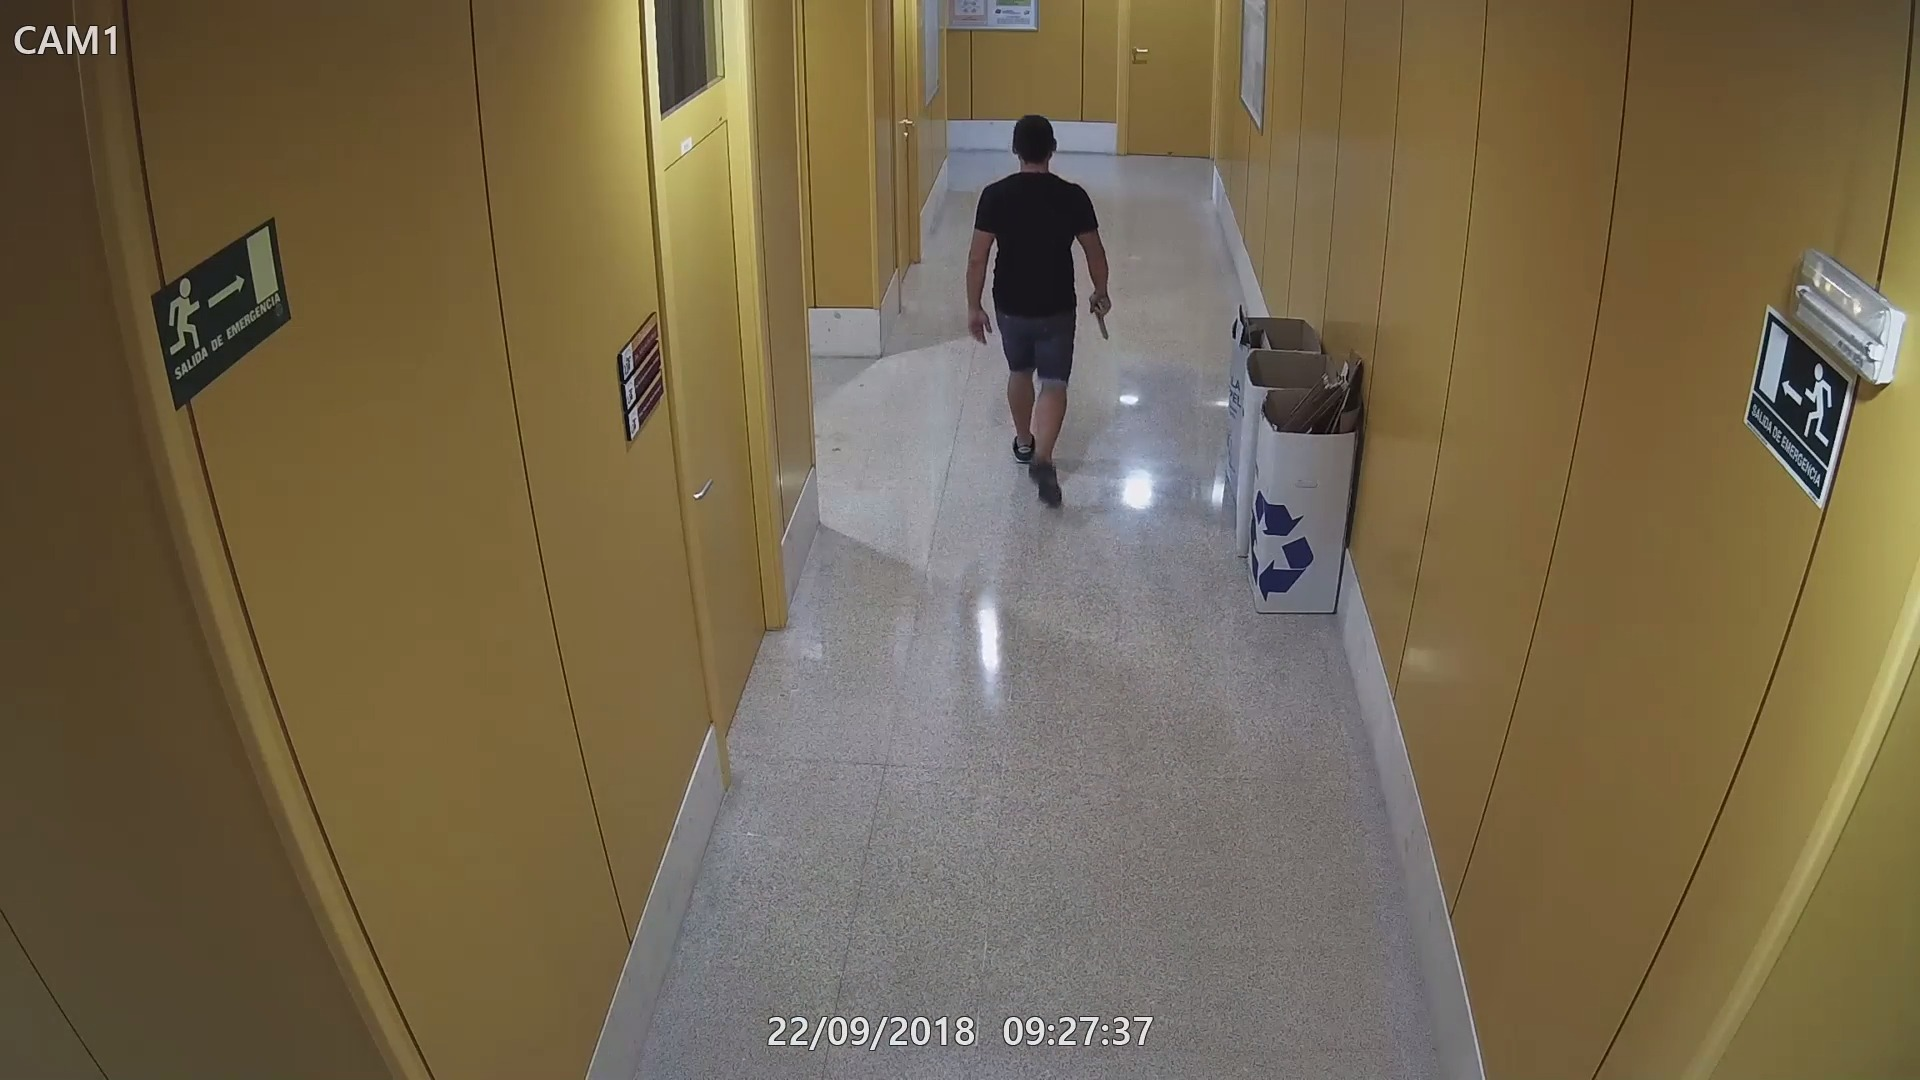Handgun: (1085, 286, 1116, 342)
